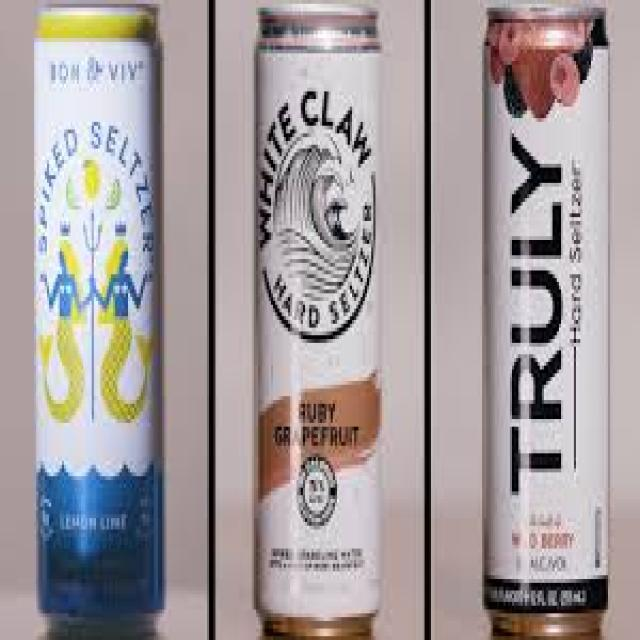Cans: (28, 4, 181, 636), (474, 4, 620, 640), (248, 4, 388, 640)
